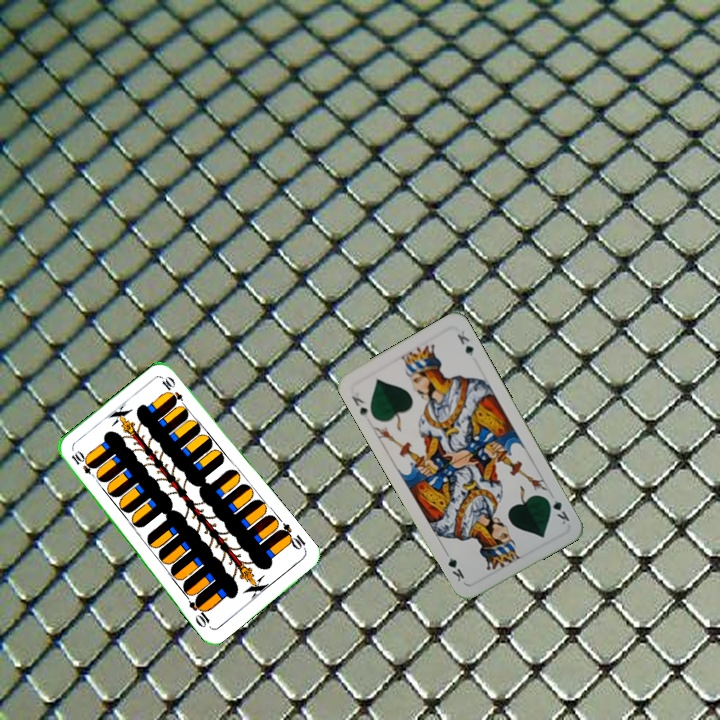E10: (274, 520, 309, 554), (67, 447, 100, 481)
GK: (542, 493, 572, 527), (348, 392, 370, 421)
